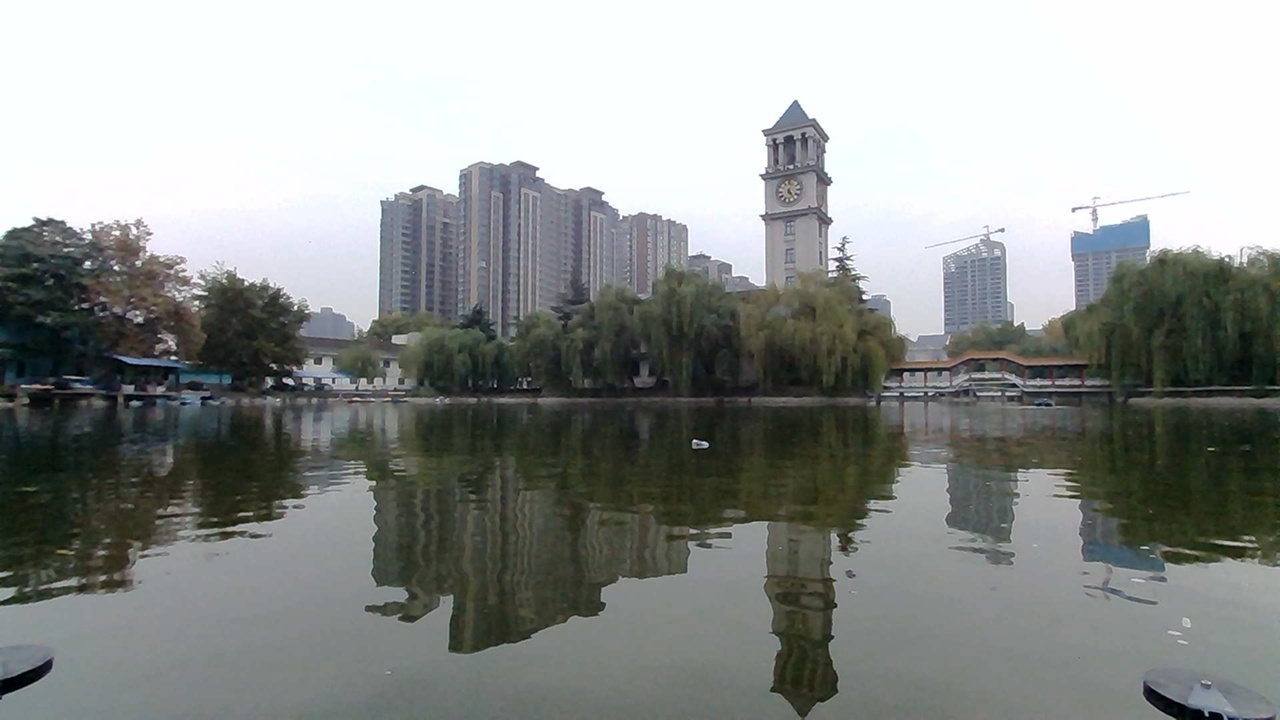bottle: (684, 427, 723, 457)
